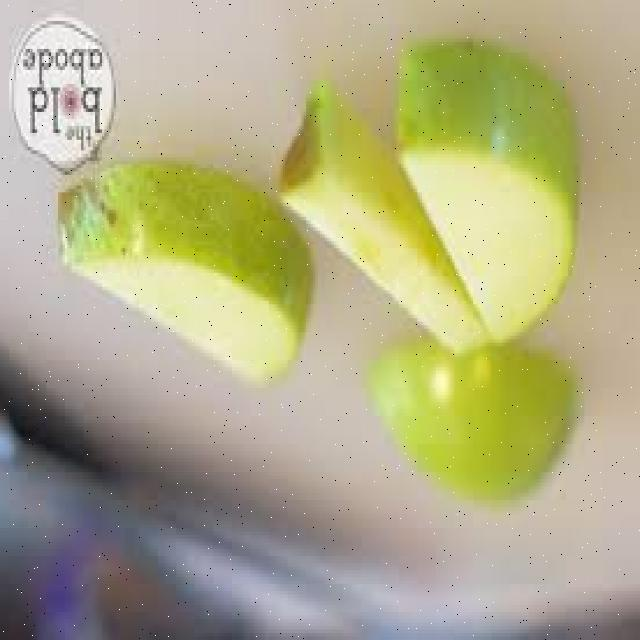Apple: (58, 165, 316, 396), (400, 44, 581, 341), (282, 78, 464, 350), (347, 350, 579, 514)
